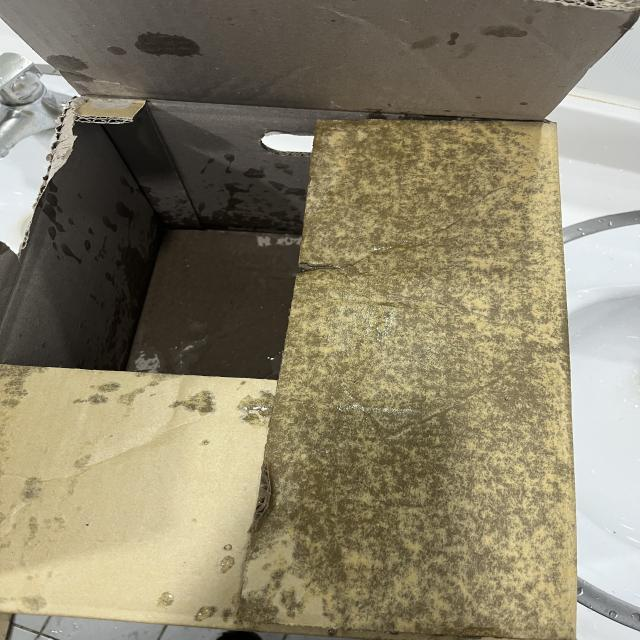wet: (291, 106, 562, 630), (126, 204, 279, 372)
